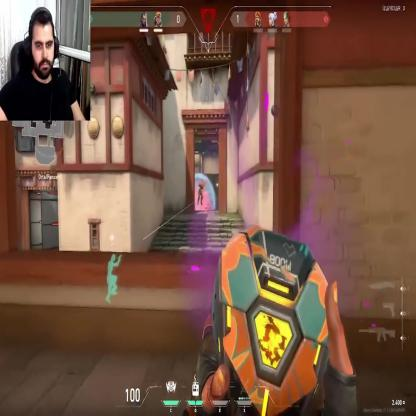enemy: (197, 183, 203, 205)
enemy_head: (199, 182, 201, 186)
